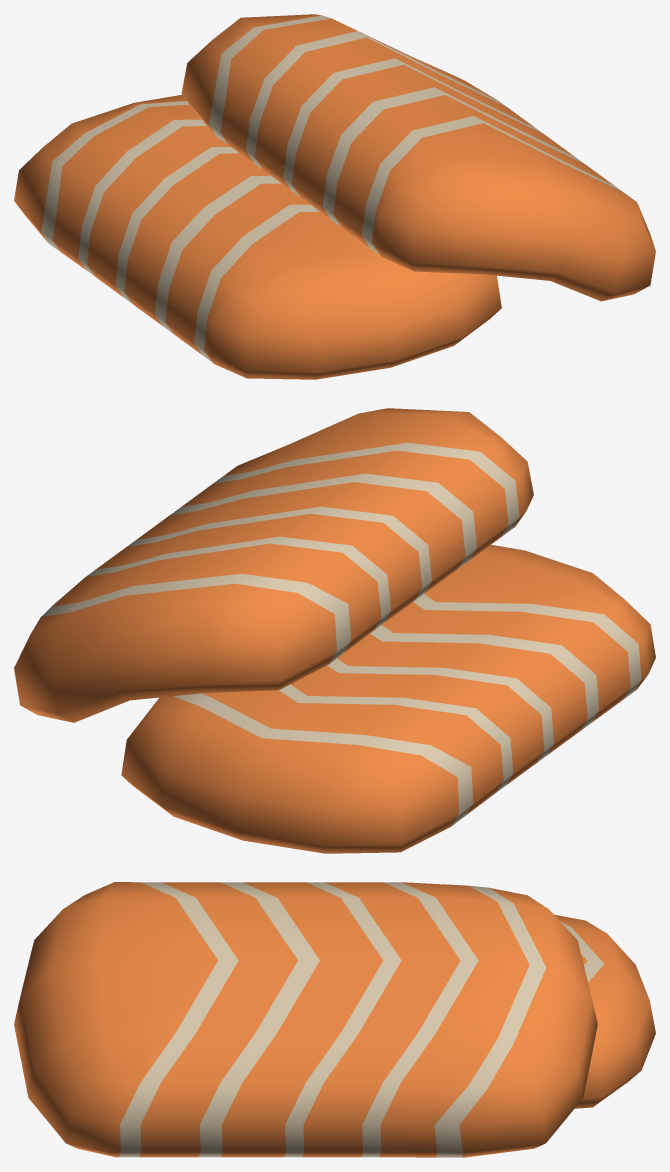
Rendered from Salmon.glb.
3 views of the same model, one above another, from view 1: azimuth 30°, elevation 25°; view 2: azimuth 150°, elevation 25°; view 3: azimuth 270°, elevation 25° (orthographic). The views are drawn at different scales.
Parts seen in each view (by area): view 1: FoodIngredient_Salmon; view 2: FoodIngredient_Salmon; view 3: FoodIngredient_Salmon.
Boxes of the visible parts, box(x1,y1,x2,y2) form: FoodIngredient_Salmon: box(14, 14, 655, 379); FoodIngredient_Salmon: box(14, 408, 655, 853); FoodIngredient_Salmon: box(14, 882, 655, 1157).
Size of the model in its own units: 0.6622 by 0.2796 by 0.8608.
1 material, 1 textured.
